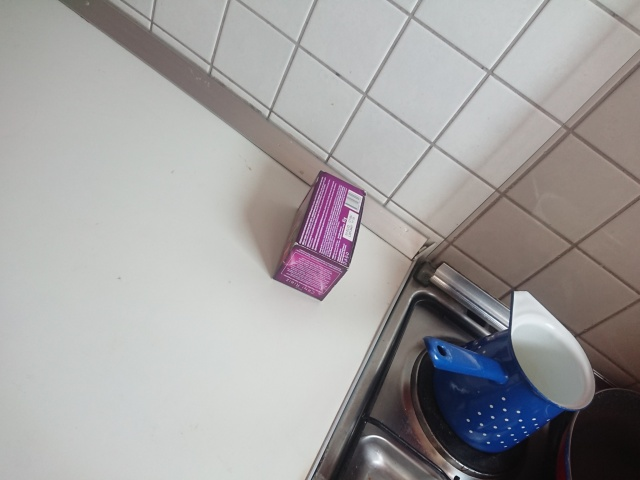Franck Black Currant Tea 60g: (270, 169, 369, 303)
